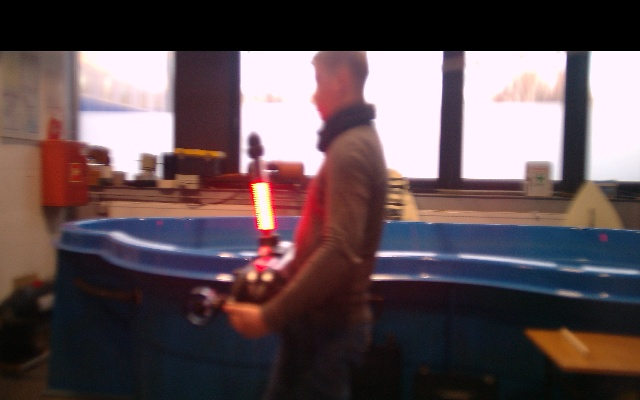red: (251, 181, 275, 233)
